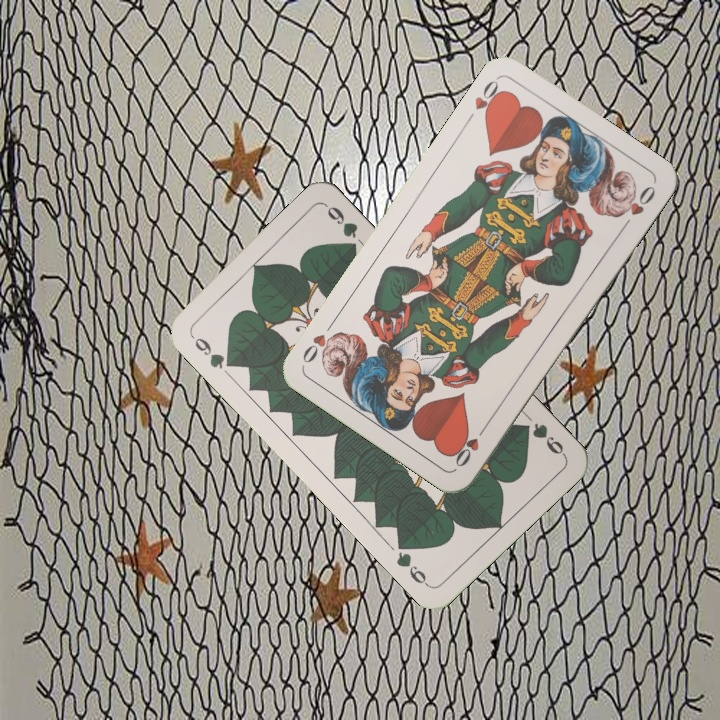G9: (515, 419, 568, 459), (187, 331, 239, 371)
HO: (450, 419, 492, 470), (470, 74, 508, 123)
